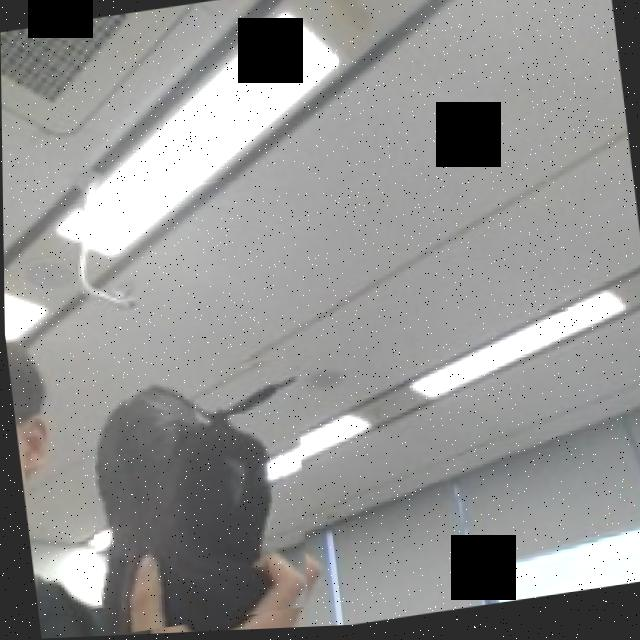shoe: (73, 347, 324, 638)
